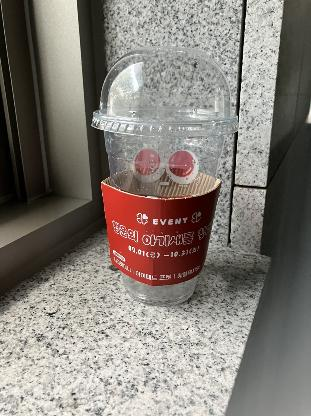Plastic Cup: (95, 42, 238, 306), (91, 50, 240, 140)
